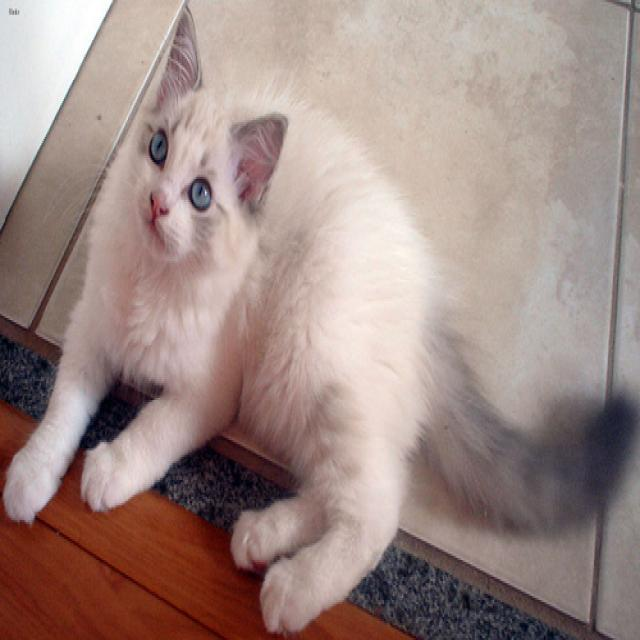cat: (130, 0, 286, 255)
